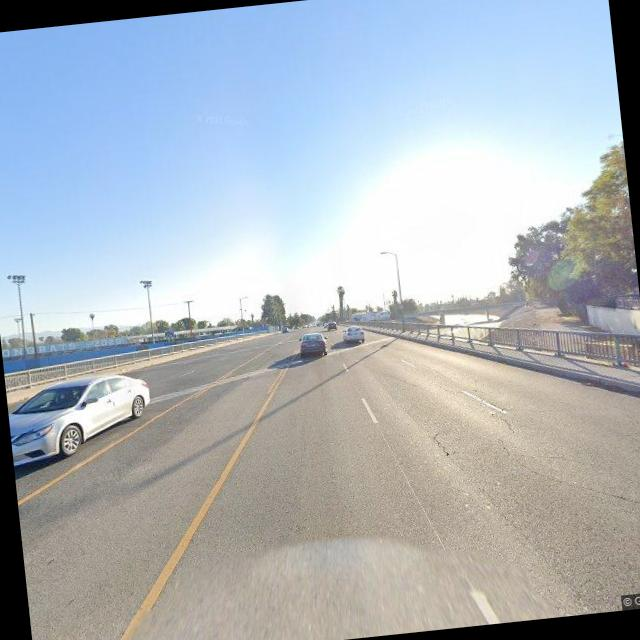pothole: (487, 390, 640, 530), (424, 428, 456, 466)
